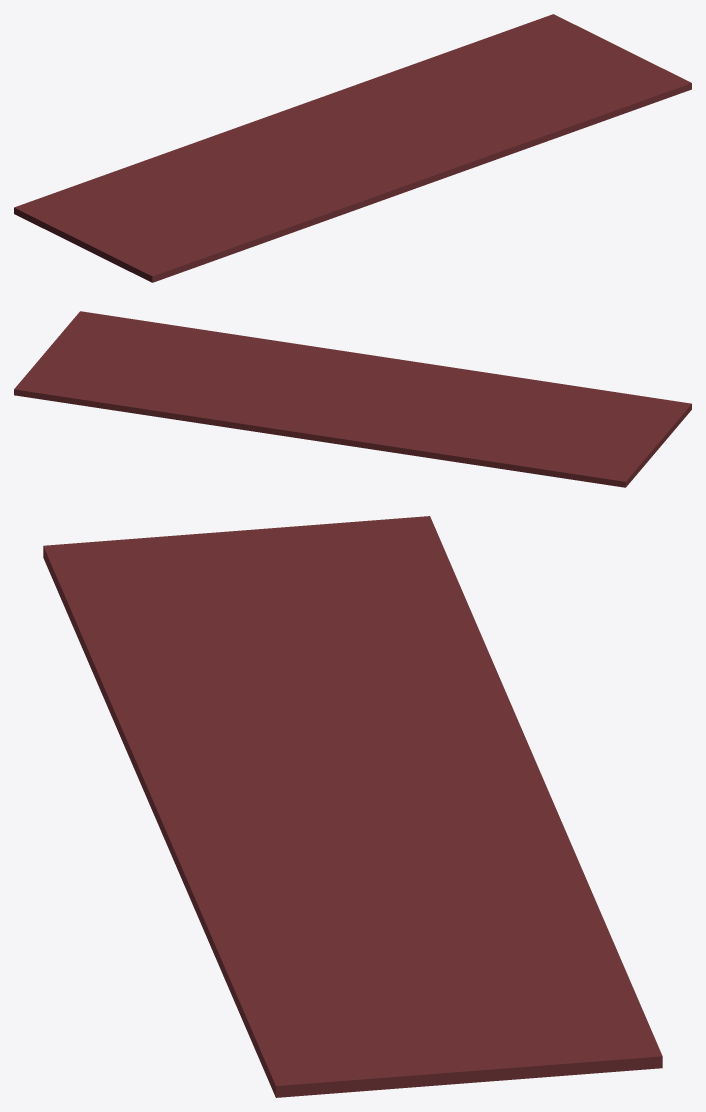
File: INT_C_OldStain_00.glb
3 views of the same model, one above another, from view 1: azimuth 30°, elevation 25°; view 2: azimuth 150°, elevation 25°; view 3: azimuth 270°, elevation 25° (orthographic). The views are drawn at different scales.
Parts seen in each view (by area): view 1: INT_C_OldStain_00; view 2: INT_C_OldStain_00; view 3: INT_C_OldStain_00.
Boxes of the visible parts, x1,y1,x2,y2 form: INT_C_OldStain_00: (14,14,691,282); INT_C_OldStain_00: (14,311,691,487); INT_C_OldStain_00: (43,516,662,1097).
Bounding box in the file's own units: 2.47 × 0.024 × 1.13.
